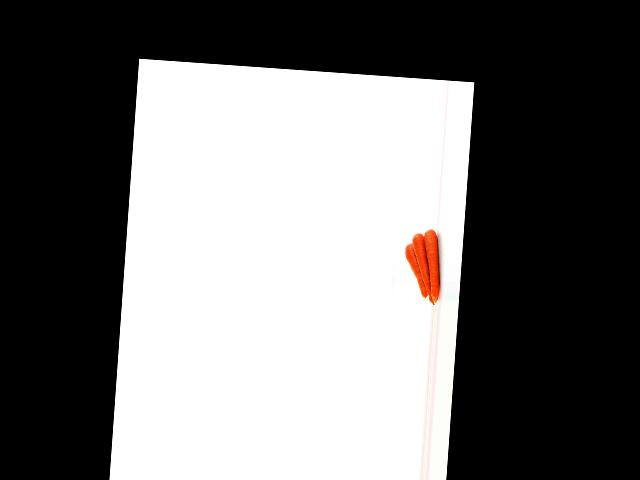carrot: (419, 226, 447, 302)
